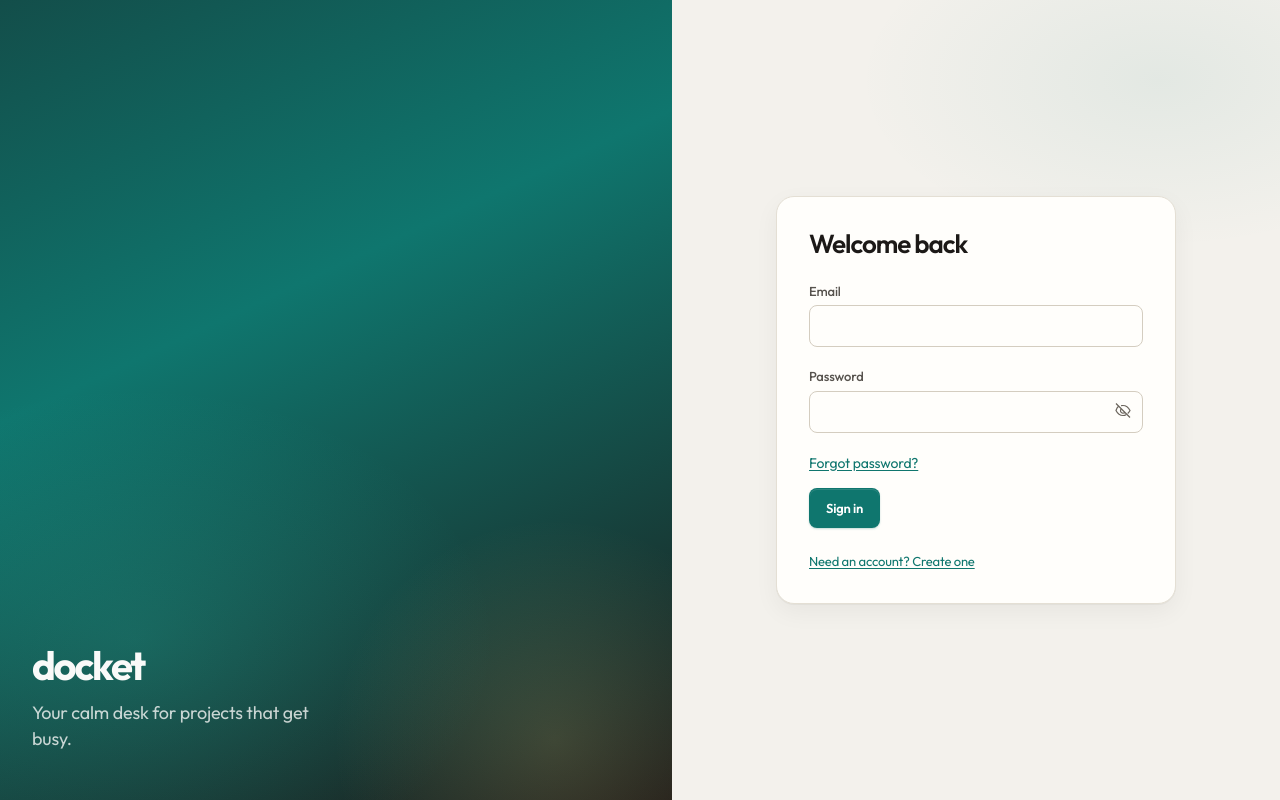
LoginPage › shows a resend-verification action on a 403 unverified-email response
Step 1. Type "ana@example.com" into the field labelled "Email" → {"x": 976, "y": 326}, box [809,305,1143,347]
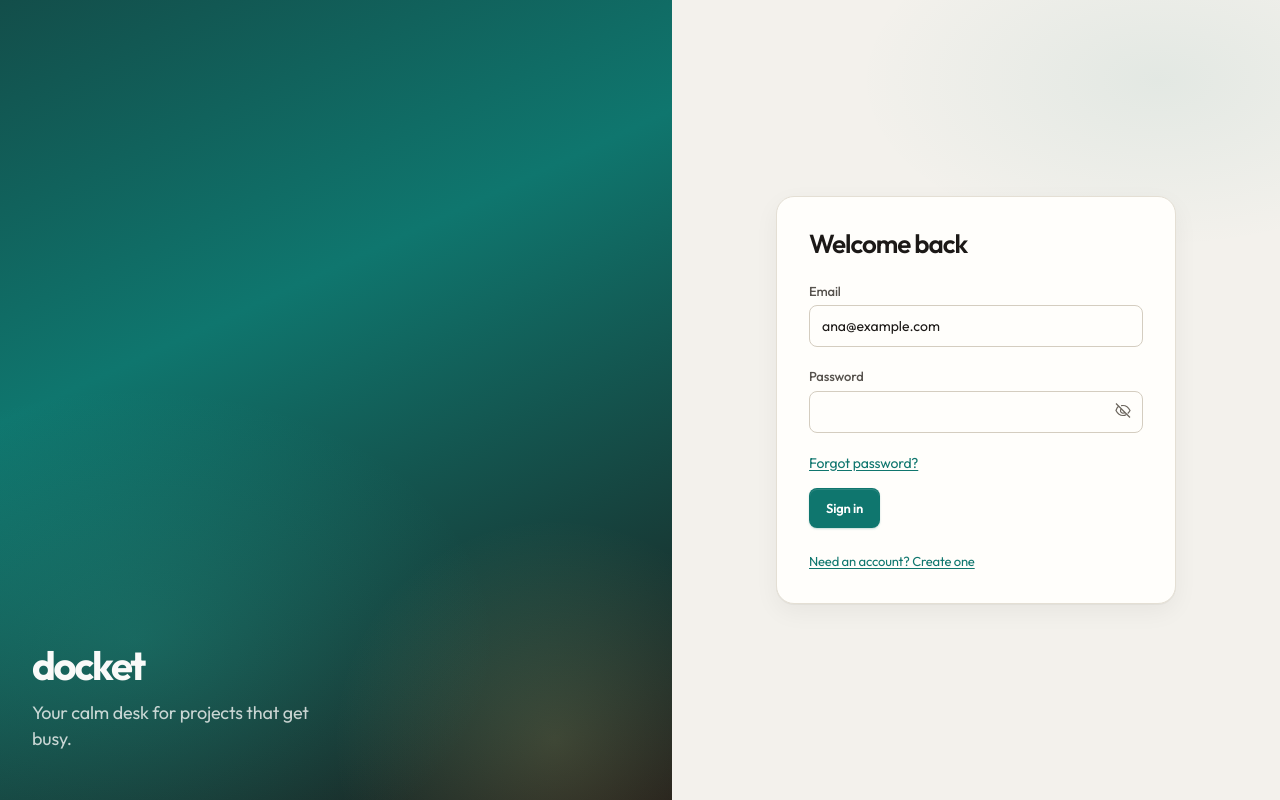
Step 2. Type "password123" into the password field labelled "Password" → {"x": 976, "y": 412}, box [809,391,1143,433]
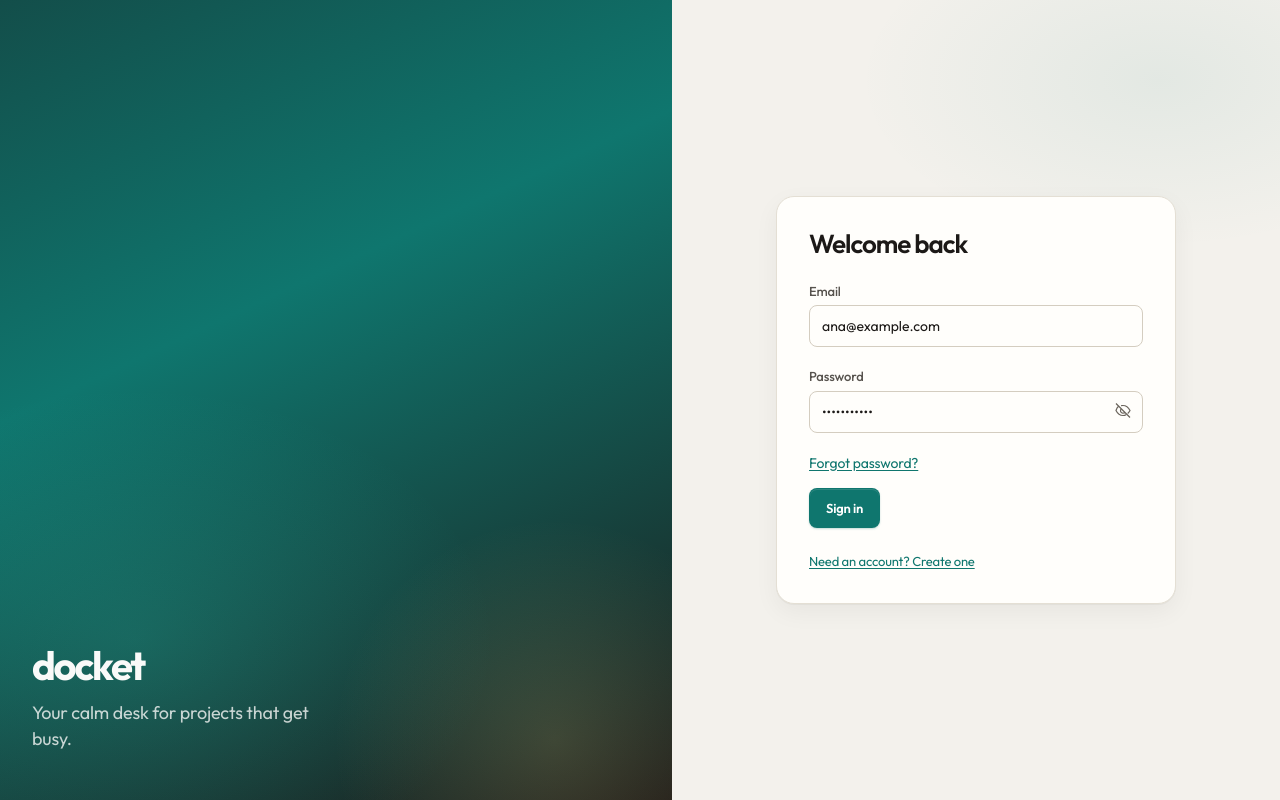
Step 3. Click the button "Sign in" → {"x": 845, "y": 508}, box [809,488,880,528]
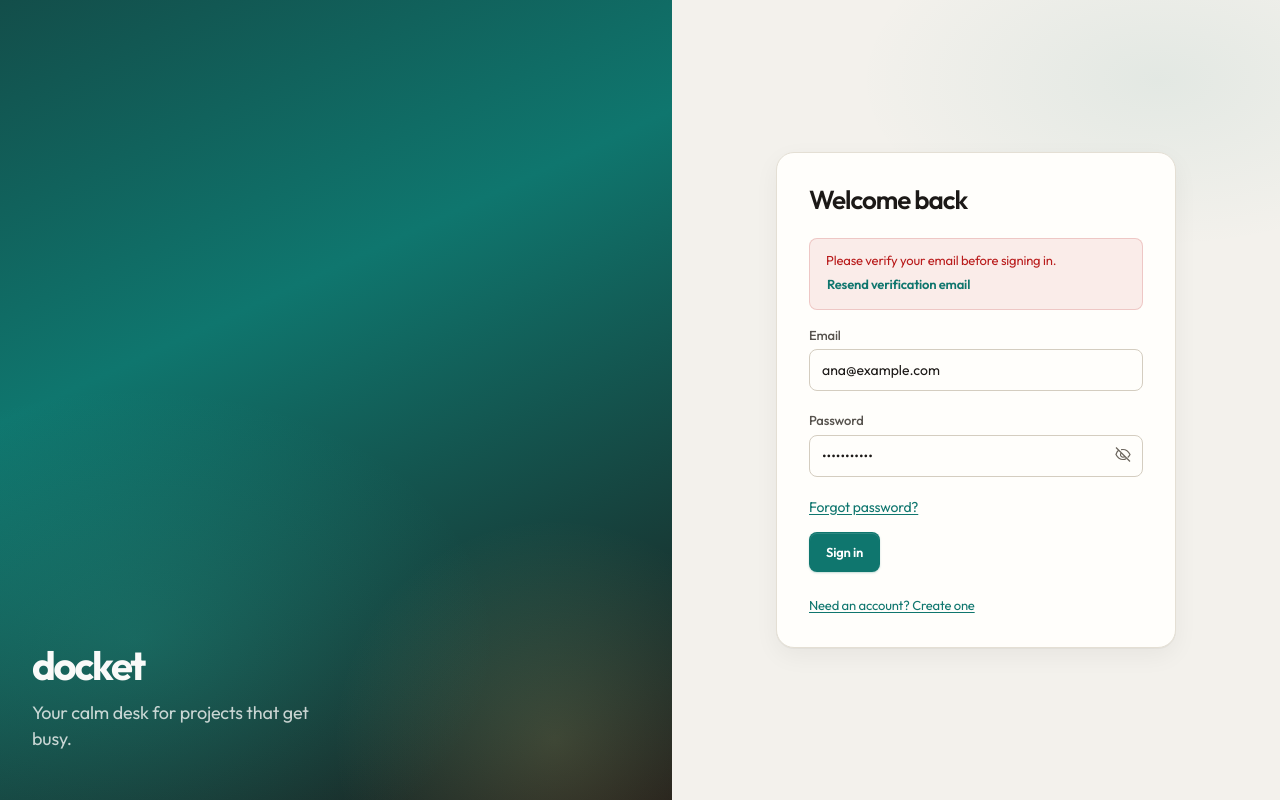
Check: the text "Resend verification email" is shown, box [827,276,970,292]
